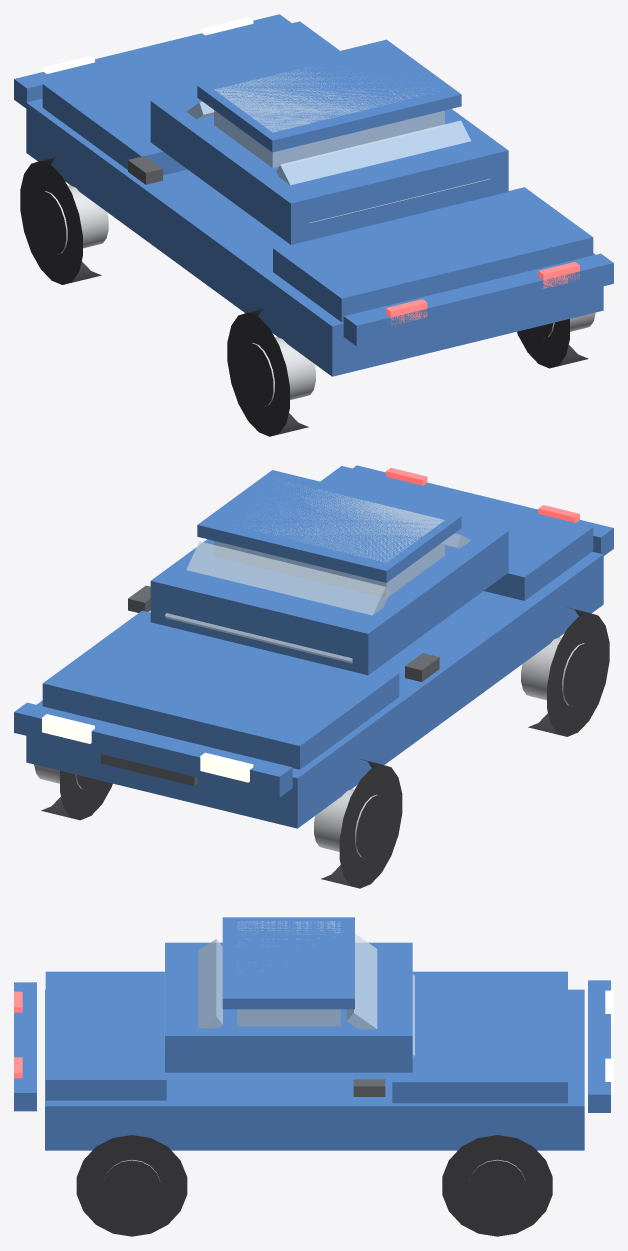
The model's file is centerpiece2.glb.
3 views of the same model, one above another, from view 1: azimuth 30°, elevation 25°; view 2: azimuth 150°, elevation 25°; view 3: azimuth 270°, elevation 25° (orthographic). The views are drawn at different scales.
Visible parts, largest first — view 1: PlayerCar; view 2: PlayerCar; view 3: PlayerCar.
Boxes of the visible parts, x1,y1,x2,y2 form: PlayerCar: (14,14,613,436); PlayerCar: (14,465,613,888); PlayerCar: (14,917,613,1236).
Bounding box in the file's own units: 2.28 × 1.61 × 4.17.
